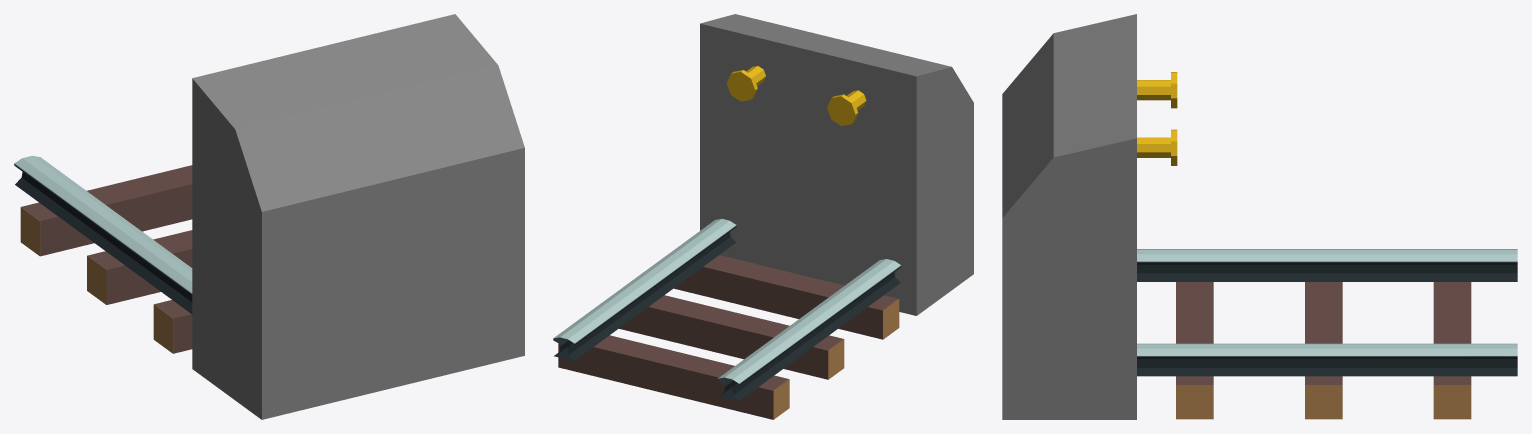
The model's file is TrilhoFim.fbx.
3 views of the same model, side by side, from view 1: azimuth 30°, elevation 25°; view 2: azimuth 150°, elevation 25°; view 3: azimuth 270°, elevation 25° (orthographic). The views are drawn at different scales.
Visible parts, largest first — view 1: RailWorld_Fim; view 2: RailWorld_Fim; view 3: RailWorld_Fim.
Boxes of the visible parts, x1=… form: RailWorld_Fim: x1=14, y1=14, x2=524, y2=419; RailWorld_Fim: x1=553, y1=14, x2=973, y2=419; RailWorld_Fim: x1=1002, y1=14, x2=1517, y2=419.
Bounding box in the file's own units: 610 × 645 × 1069.
